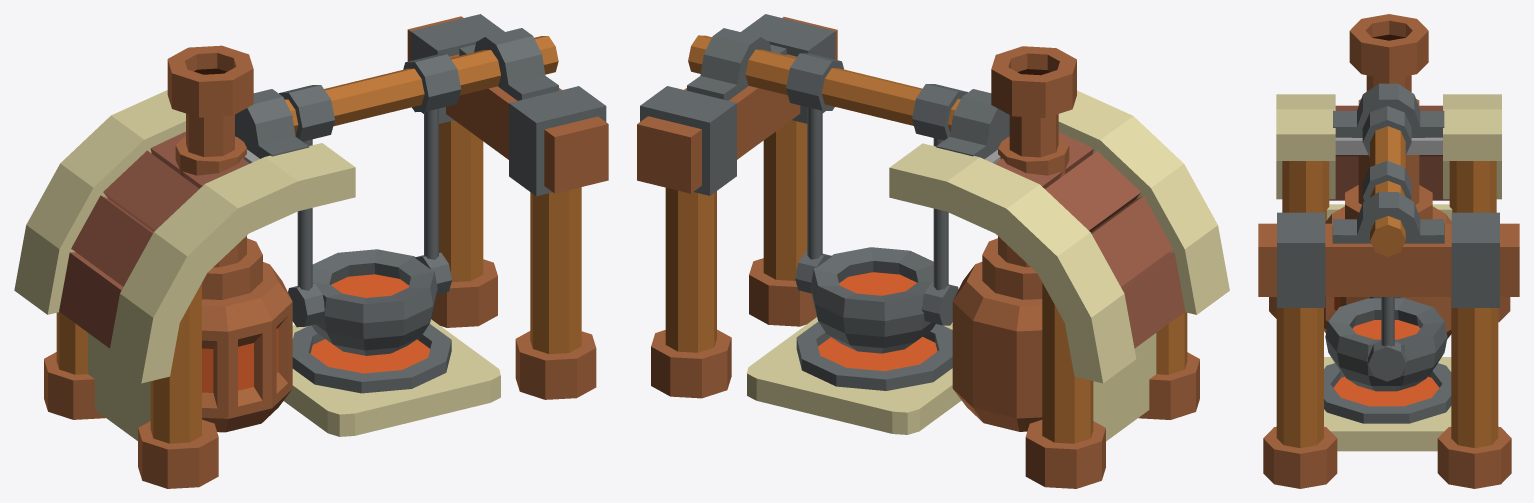
File: forge.fbx
The picture shows the model from 3 angles, left to right: view 1: azimuth 30°, elevation 25°; view 2: azimuth 150°, elevation 25°; view 3: azimuth 270°, elevation 25°; orthographic projection. The views are drawn at different scales.
Parts seen in each view (by area): view 1: forge; view 2: forge; view 3: forge.
Part boxes in pixels (x1,y1,x2,y2): forge: (14,14,608,488); forge: (637,14,1229,488); forge: (1258,14,1519,488).
Bounding box in the file's own units: 300 × 219 × 163.
